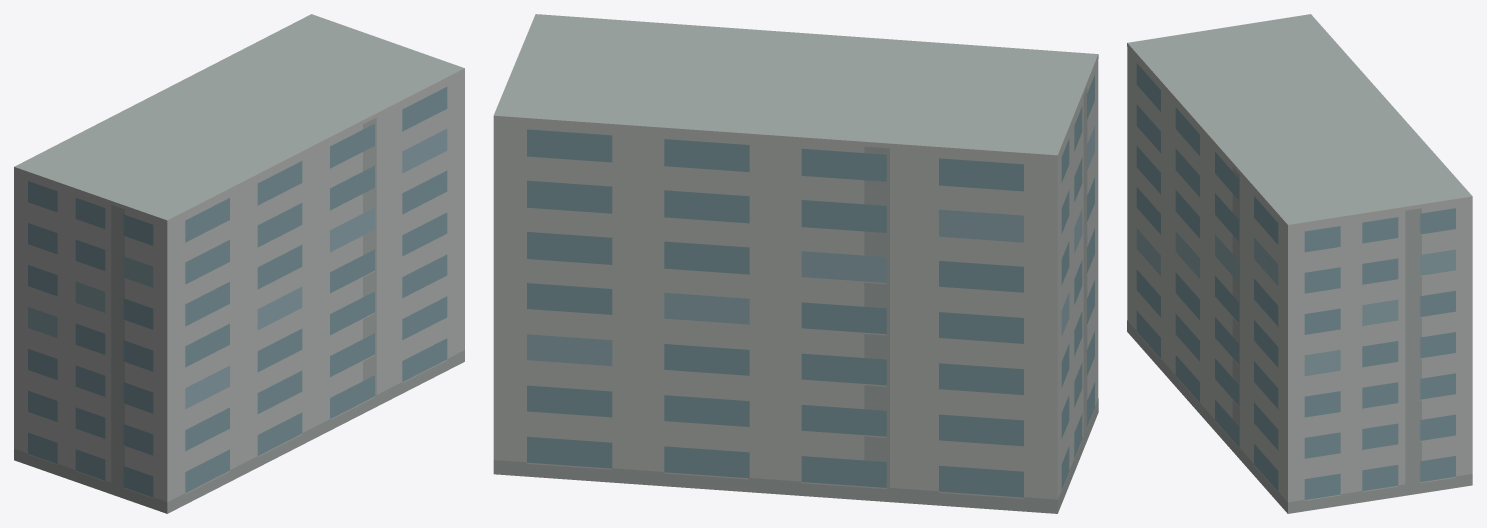
File: survey-upis-32850419.glb
3 views of the same model, side by side, from view 1: azimuth 30°, elevation 25°; view 2: azimuth 150°, elevation 25°; view 3: azimuth 270°, elevation 25° (orthographic). The views are drawn at different scales.
Parts seen in each view (by area): view 1: survey-upis-32850419.tmp; view 2: survey-upis-32850419.tmp; view 3: survey-upis-32850419.tmp.
Part boxes in pixels (x1,y1,x2,y2): survey-upis-32850419.tmp: [14, 14, 464, 513]; survey-upis-32850419.tmp: [493, 14, 1098, 513]; survey-upis-32850419.tmp: [1127, 14, 1472, 513].
Bounding box in the file's own units: 28.5 × 18.2 × 19.73.
